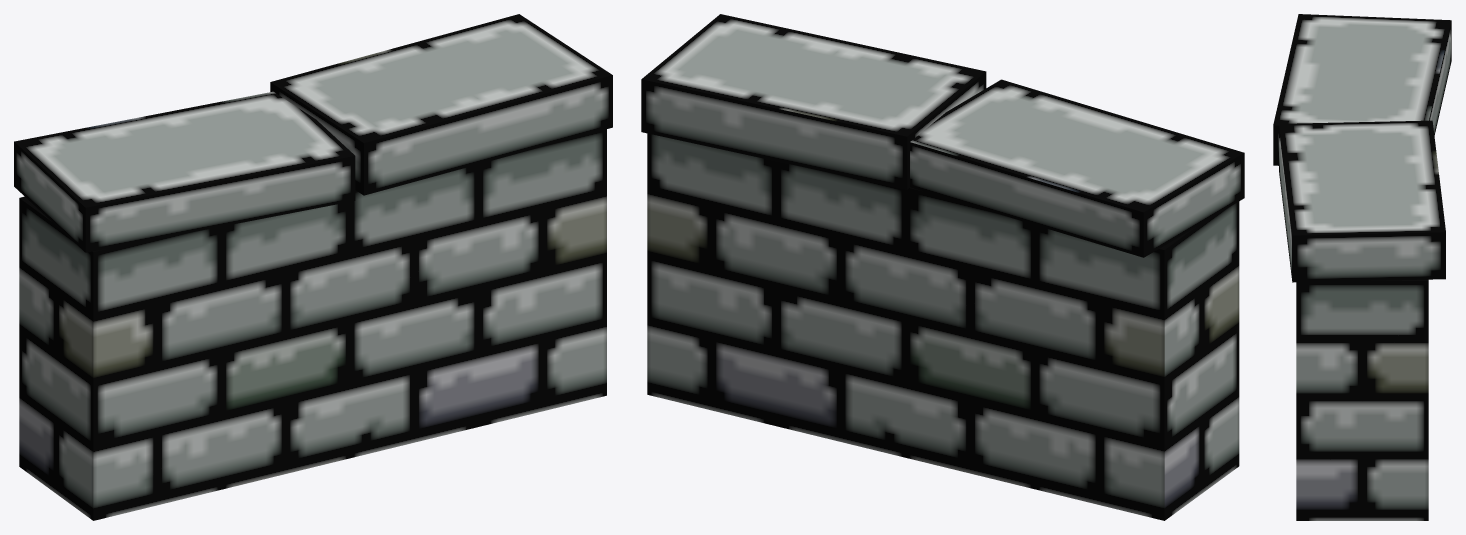
The model's file is deco_cathedral_wall.FBX.
3 renders of one model, left to right at view 1: azimuth 30°, elevation 25°; view 2: azimuth 150°, elevation 25°; view 3: azimuth 270°, elevation 25°, orthographic. The views are drawn at different scales.
Parts seen in each view (by area): view 1: deco_cathedral_wall; view 2: deco_cathedral_wall; view 3: deco_cathedral_wall.
Part boxes in pixels (x1,y1,x2,y2): deco_cathedral_wall: [14, 14, 612, 520]; deco_cathedral_wall: [641, 14, 1244, 520]; deco_cathedral_wall: [1273, 14, 1451, 520].
Bounding box in the file's own units: 2.04 × 1.2 × 0.6742.
1 material, 1 textured.
